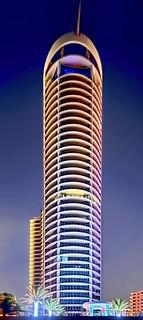building: (26, 28, 104, 316)
